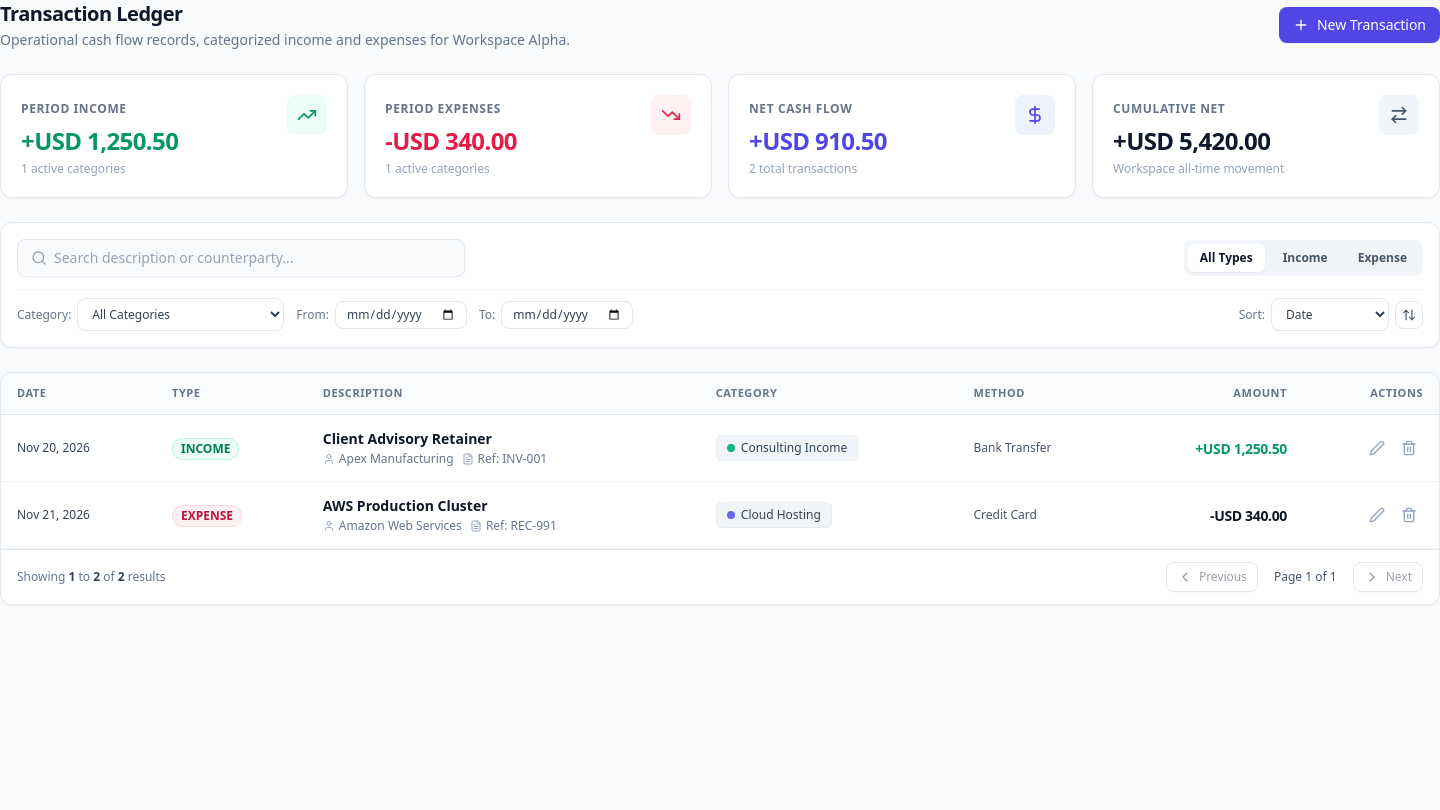
Transaction Ledger Component & Hook Tests › Scenario 6: Monetary Validation rejects invalid amount strings in TransactionModal
Click the button "New Transaction".
click(1359, 25)  # box [1279,7,1439,43]
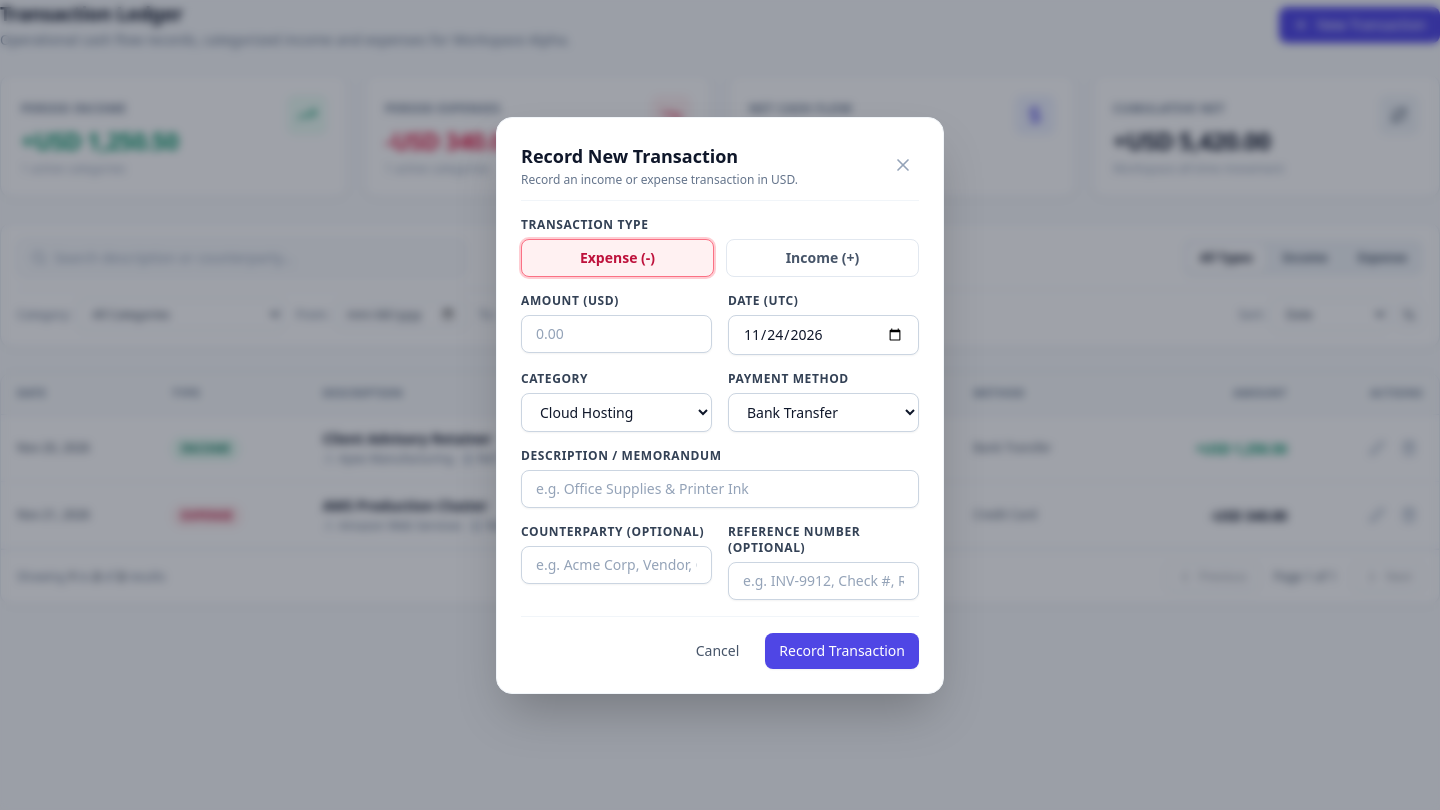
Check: the heading "Record New Transaction" is shown, box [521,144,738,168]
# Enter invalid amount string
Type "invalid-amount" into the field labelled "Amount (USD)".
click(616, 334); type("invalid-amount")  # box [521,314,712,352]
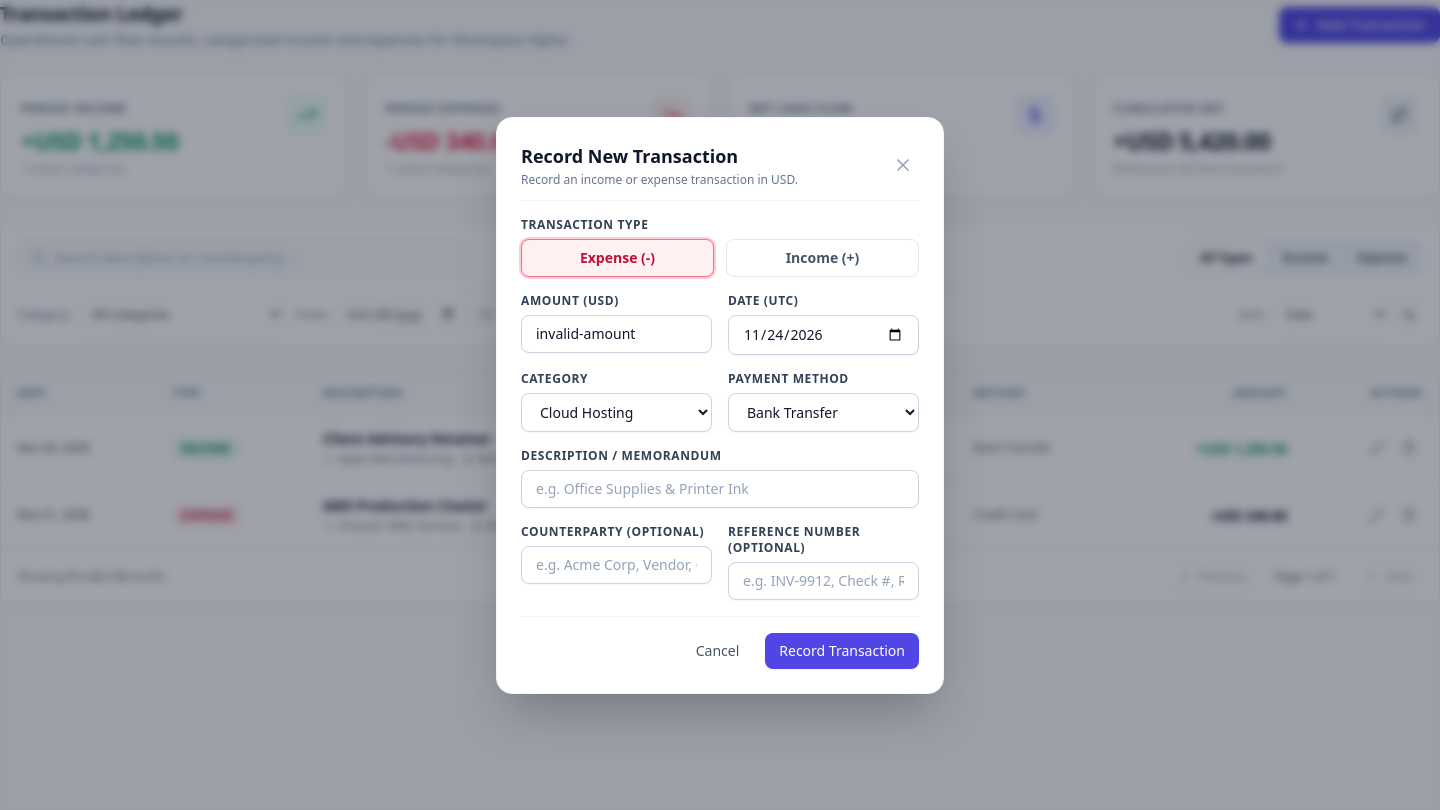
Type "Test description" into the field labelled "Description / Memorandum".
click(720, 488); type("Test description")  # box [521,470,919,508]
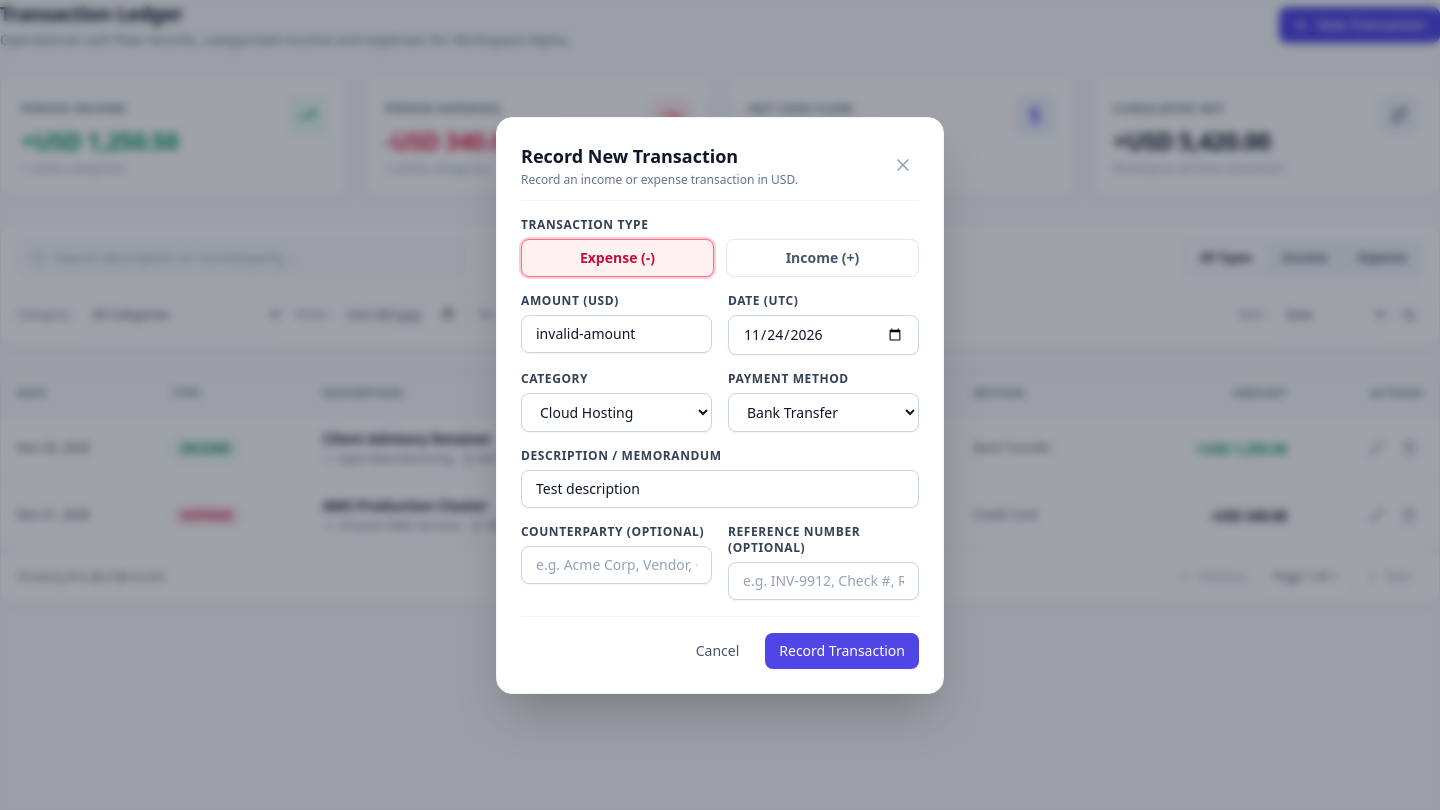
Click the button "Record Transaction".
click(842, 650)  # box [765,632,919,668]
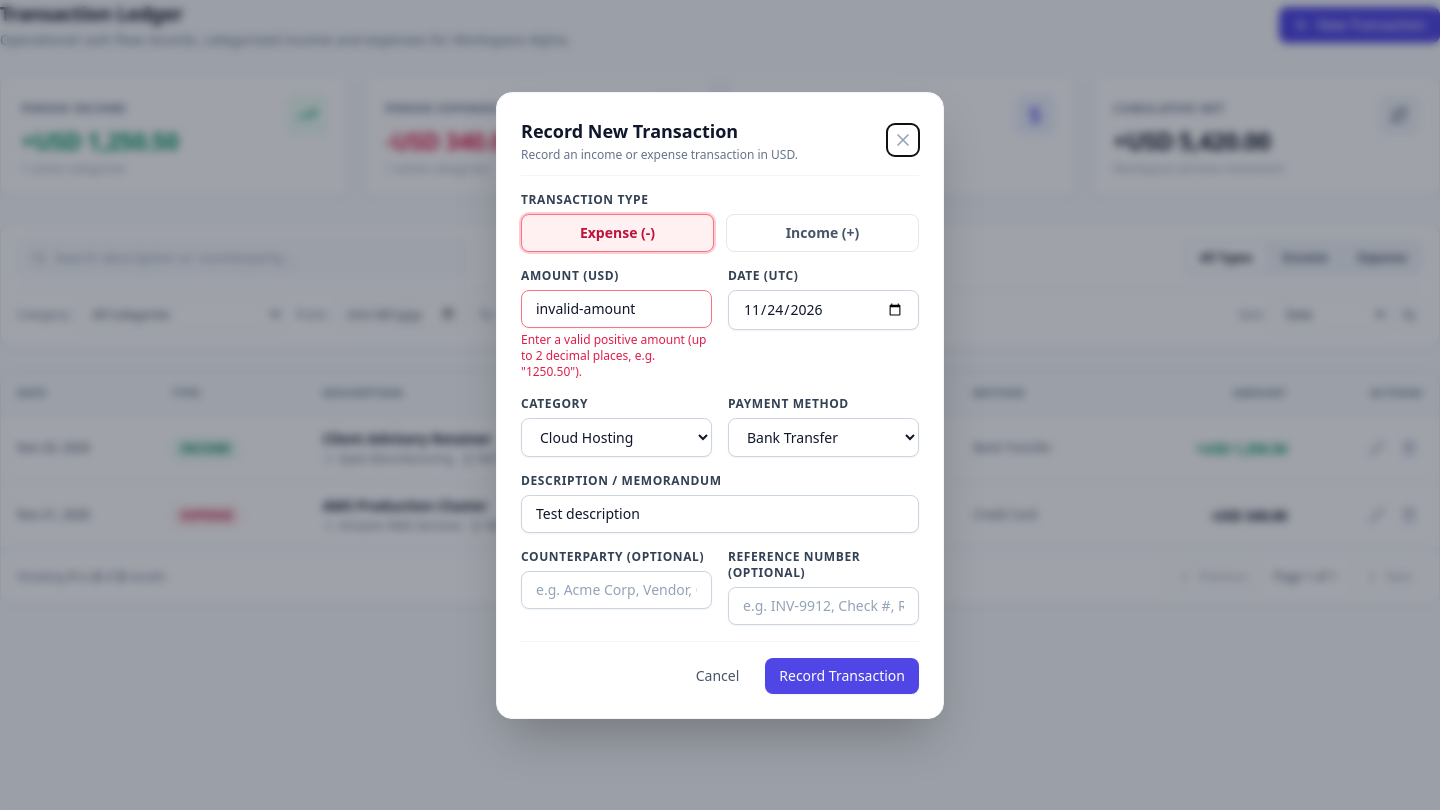
Check: the text "Enter a valid positive amount" is shown, box [521,330,706,380]
# Enter valid amount string
Replace the text in the field labelled "Amount (USD)" with "450.75" at coordinates (616, 308), box [521,290,712,328]
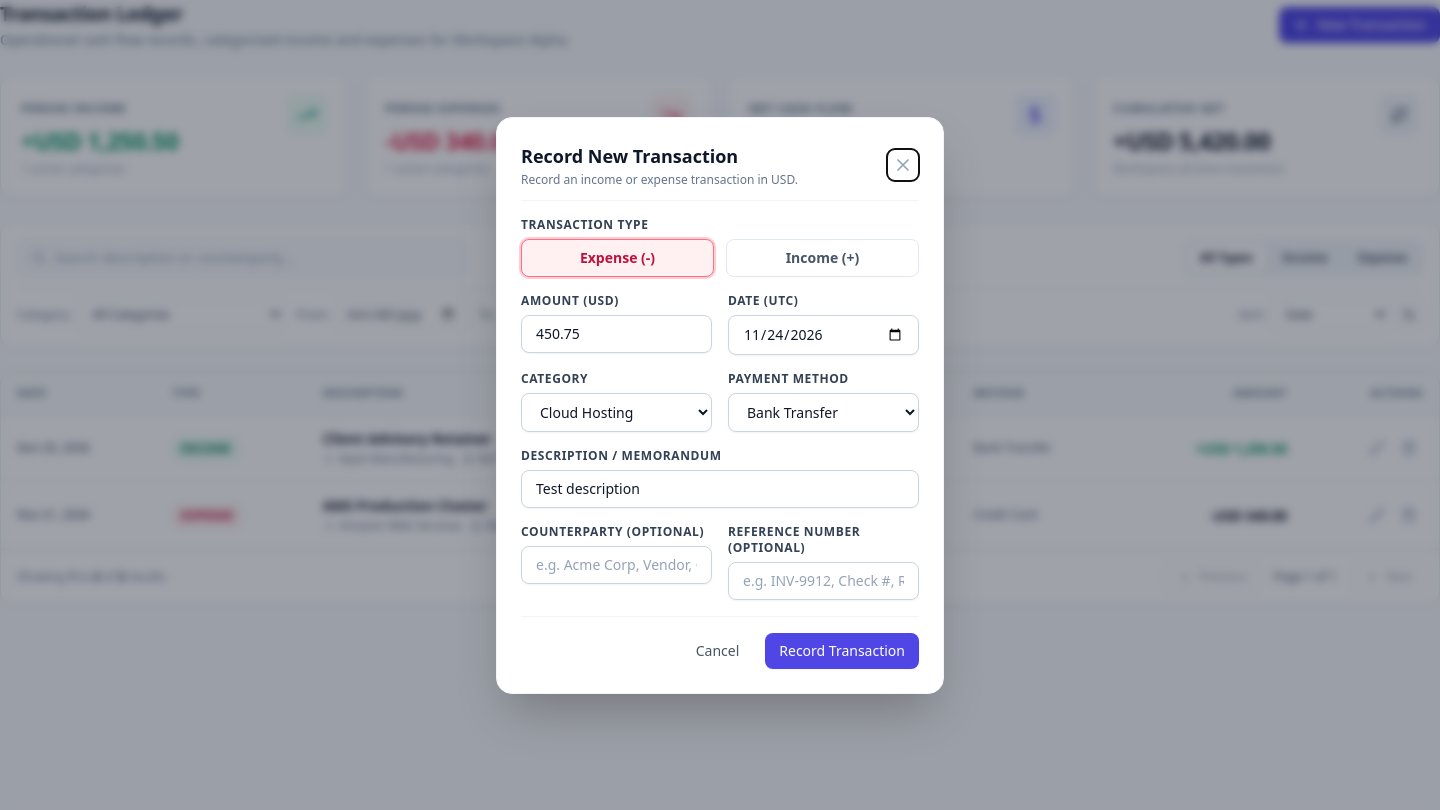
Check: the text "Enter a valid positive amount" is gone
